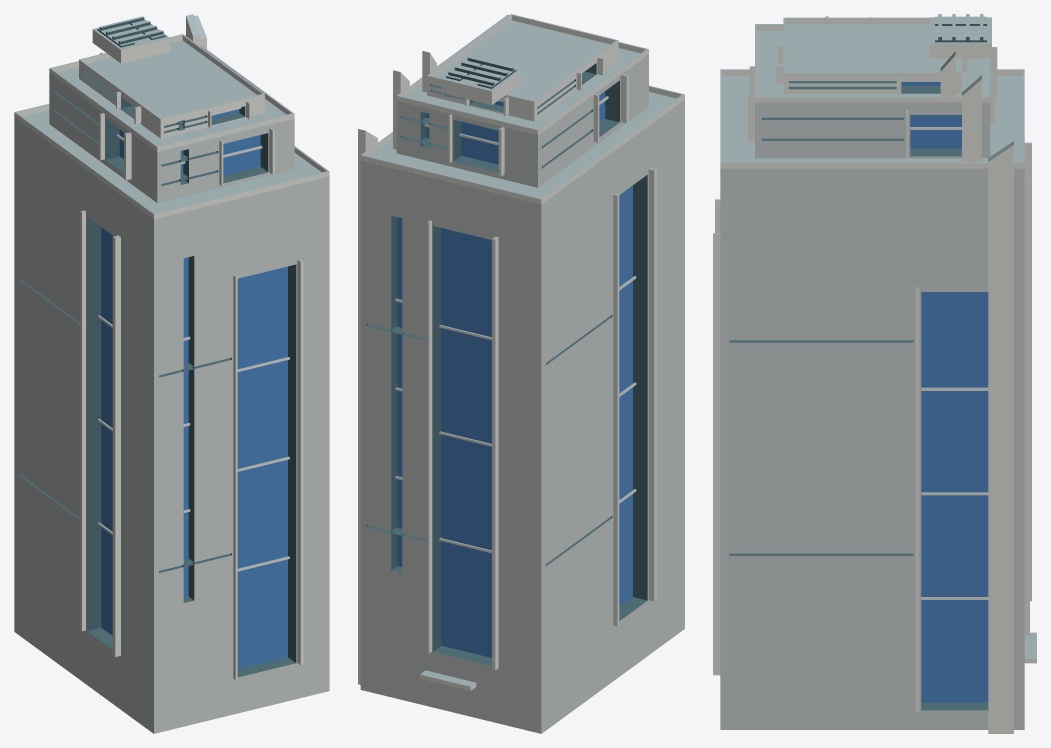
Rendered from 14_Glasnadel.obj.
3 renders of one model, left to right at view 1: azimuth 30°, elevation 25°; view 2: azimuth 150°, elevation 25°; view 3: azimuth 270°, elevation 25°, orthographic. The views are drawn at different scales.
Size of the model in its own units: 0.3268 by 1 by 0.4446.
